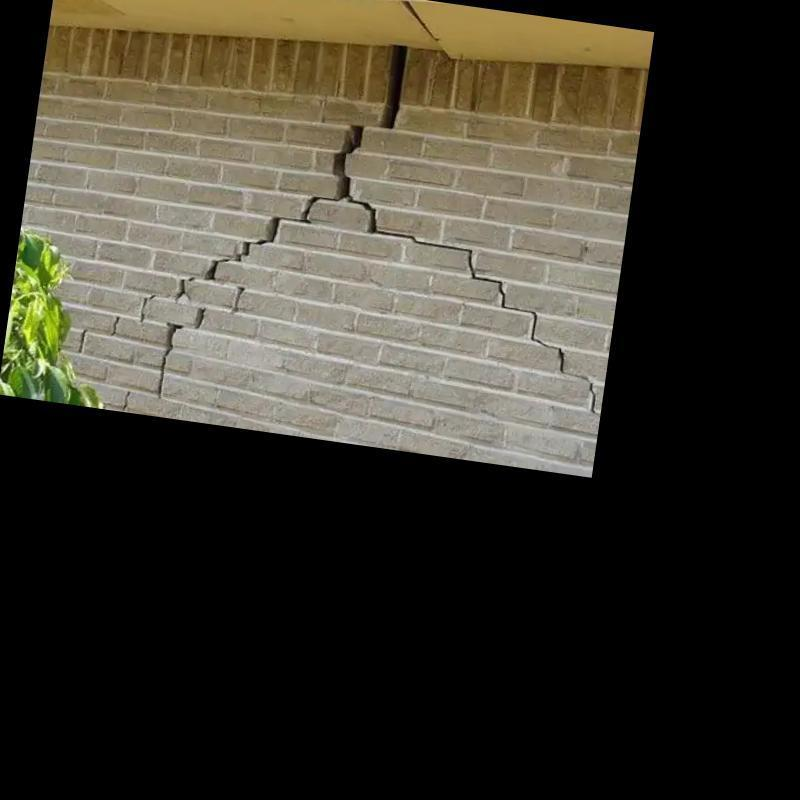crack: (348, 196, 565, 372), (234, 195, 339, 262), (380, 45, 407, 127), (156, 322, 183, 399), (334, 127, 362, 198), (204, 259, 230, 281), (139, 294, 155, 322), (174, 278, 191, 303), (587, 380, 596, 414), (234, 286, 246, 311), (193, 307, 206, 330), (77, 327, 87, 354), (109, 316, 121, 336), (120, 390, 131, 410), (187, 276, 195, 283)
